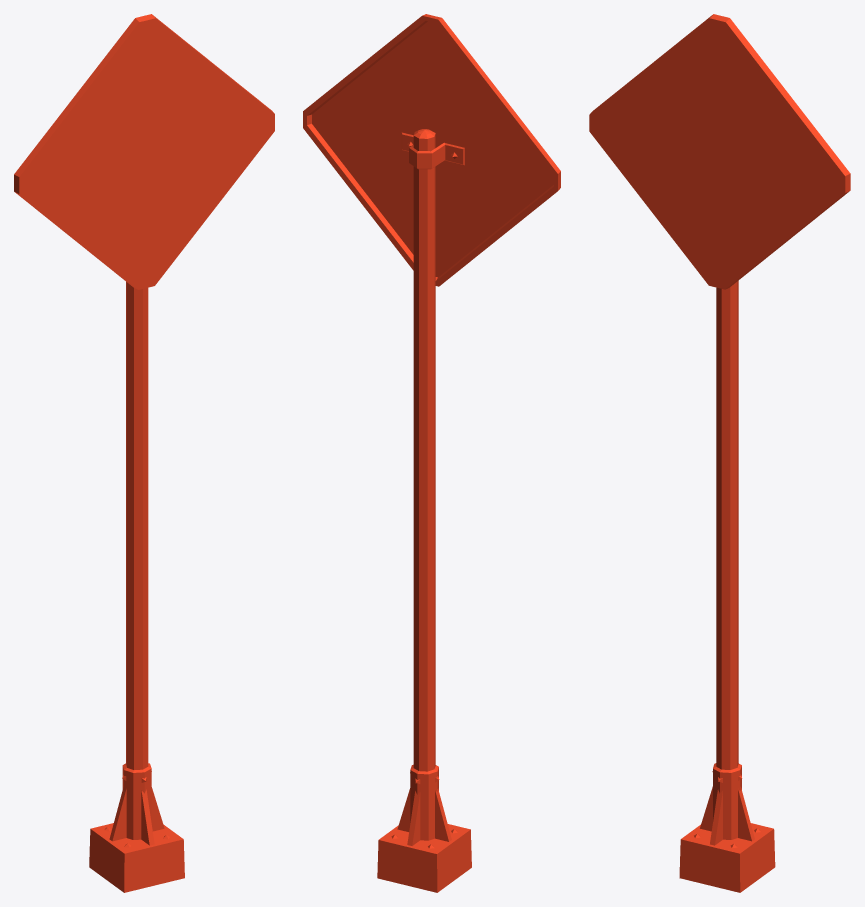
Rendered from SM_Sign_Sideroad_Angle_C_City.fbx.
3 renders of one model, left to right at view 1: azimuth 30°, elevation 25°; view 2: azimuth 150°, elevation 25°; view 3: azimuth 330°, elevation 25°, orthographic.
Parts seen in each view (by area): view 1: SM_Sign_Sideroad_Angle_C_City; view 2: SM_Sign_Sideroad_Angle_C_City; view 3: SM_Sign_Sideroad_Angle_C_City.
Boxes of the visible parts, x1,y1,x2,y2 form: SM_Sign_Sideroad_Angle_C_City: (14, 14, 274, 892); SM_Sign_Sideroad_Angle_C_City: (303, 14, 560, 892); SM_Sign_Sideroad_Angle_C_City: (589, 14, 850, 892).
Bounding box in the file's own units: 0.7813 × 2.49 × 0.1839.
